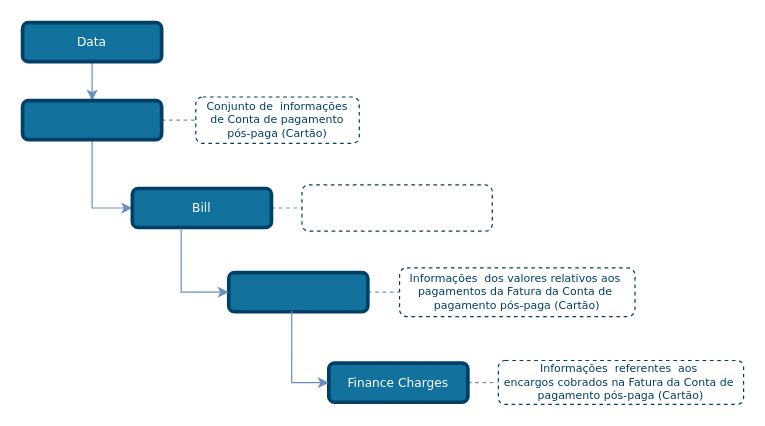
Image size: 765x426. Some labels were removed from this diagram. The centre of each missing label's shape, as x and y in pixels:
"Credit Card Accounts" goes at point (91, 119).
"Informações relativas à fatura associada à Conta de pagamento pós-paga (Cartão)" goes at point (396, 207).
"Payments" goes at point (297, 291).
